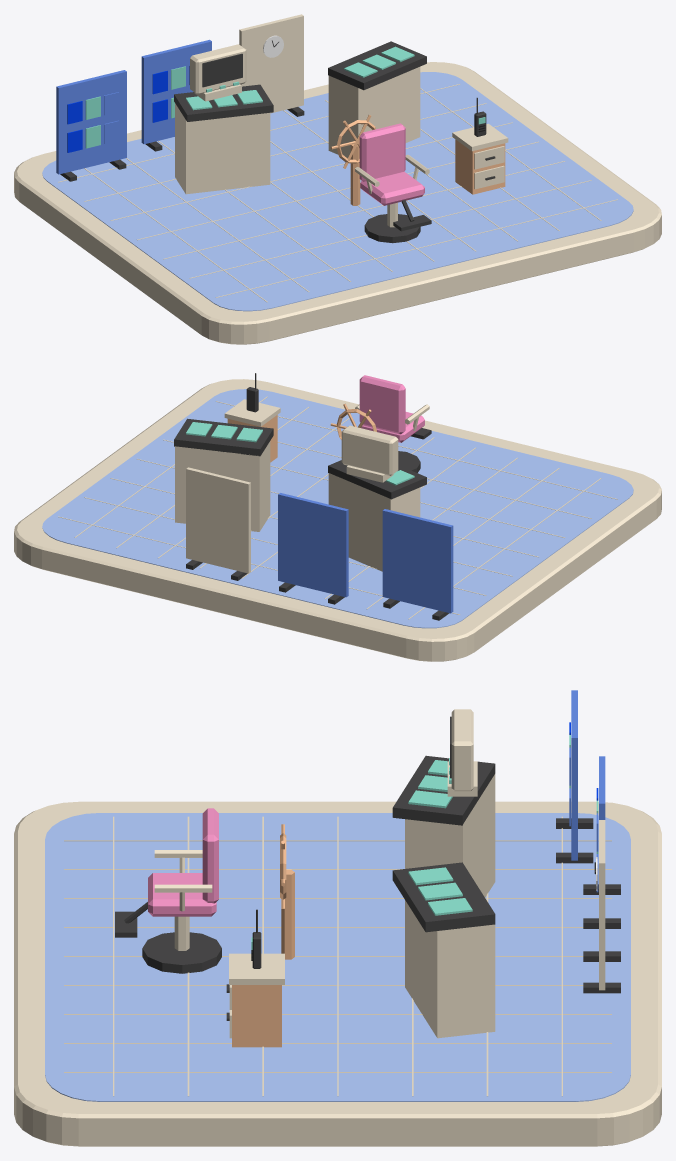
The model's file is room.fbx.
3 views of the same model, one above another, from view 1: azimuth 30°, elevation 25°; view 2: azimuth 150°, elevation 25°; view 3: azimuth 270°, elevation 25° (orthographic). The views are drawn at different scales.
Parts seen in each view (by area): view 1: COM-02 Floor Surface, COM-01 Rounded Base Direct, Console, Console.001, Panel.002, Panel.004, Panel.003, Back, Panel.001, Panel, Seat, Body (+8 smaller); view 2: COM-02 Floor Surface, COM-01 Rounded Base Direct, Panel.002, Panel.003, Panel.004, Console, Console.001, Housing, Back, Panel.001, Panel, Top (+2 smaller); view 3: COM-02 Floor Surface, COM-01 Rounded Base Direct, Console.001, Console, Panel.001, Body, Panel, Base, Seat, Housing, Top, Back (+4 smaller).
Boxes of the visible parts, bbox=[...] form: COM-02 Floor Surface: bbox=[42, 72, 633, 311]; COM-01 Rounded Base Direct: bbox=[14, 62, 661, 344]; Console: bbox=[175, 103, 270, 194]; Console.001: bbox=[328, 67, 420, 159]; Panel.002: bbox=[56, 70, 126, 174]; Panel.004: bbox=[239, 14, 303, 113]; Panel.003: bbox=[141, 39, 211, 144]; Back: bbox=[359, 123, 405, 181]; Panel.001: bbox=[328, 41, 426, 90]; Panel: bbox=[174, 84, 273, 121]; Seat: bbox=[360, 171, 424, 205]; Body: bbox=[455, 139, 505, 194]; COM-02 Floor Surface: bbox=[42, 389, 633, 628]; COM-01 Rounded Base Direct: bbox=[14, 379, 661, 661]; Panel.002: bbox=[382, 509, 453, 613]; Panel.003: bbox=[278, 493, 348, 597]; Panel.004: bbox=[186, 467, 250, 573]; Console: bbox=[328, 473, 420, 571]; Console.001: bbox=[175, 441, 270, 531]; Housing: bbox=[341, 425, 398, 475]; Back: bbox=[359, 375, 405, 434]; Panel.001: bbox=[174, 418, 273, 456]; Panel: bbox=[328, 460, 426, 499]; Top: bbox=[224, 399, 280, 426]; COM-02 Floor Surface: bbox=[45, 813, 630, 1101]; COM-01 Rounded Base Direct: bbox=[14, 801, 661, 1146]; Console.001: bbox=[405, 900, 495, 1038]; Console: bbox=[405, 774, 495, 897]; Panel.001: bbox=[392, 862, 495, 932]; Body: bbox=[232, 985, 281, 1047]; Panel: bbox=[392, 755, 495, 825]; Base: bbox=[142, 932, 221, 973]; Seat: bbox=[148, 873, 216, 916]; Housing: bbox=[451, 709, 473, 791]; Top: bbox=[229, 953, 284, 984]; Back: bbox=[202, 808, 218, 903].
Bounding box in the file's own units: 600 × 188 × 520.
